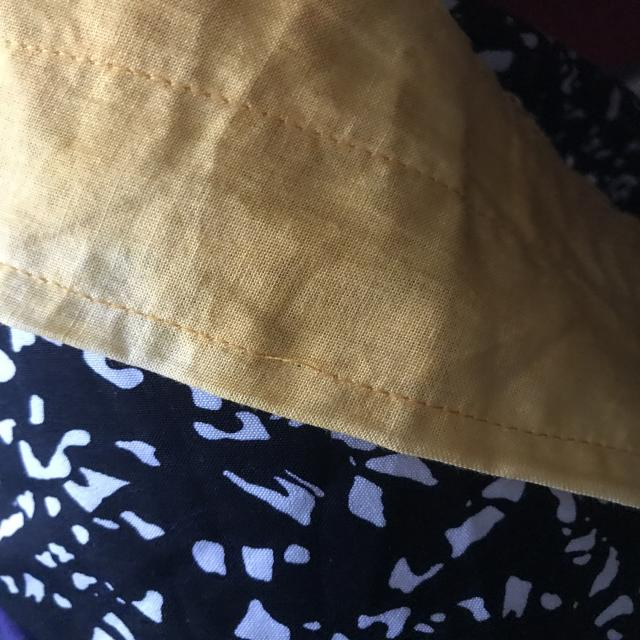skip: (253, 336, 336, 391)
